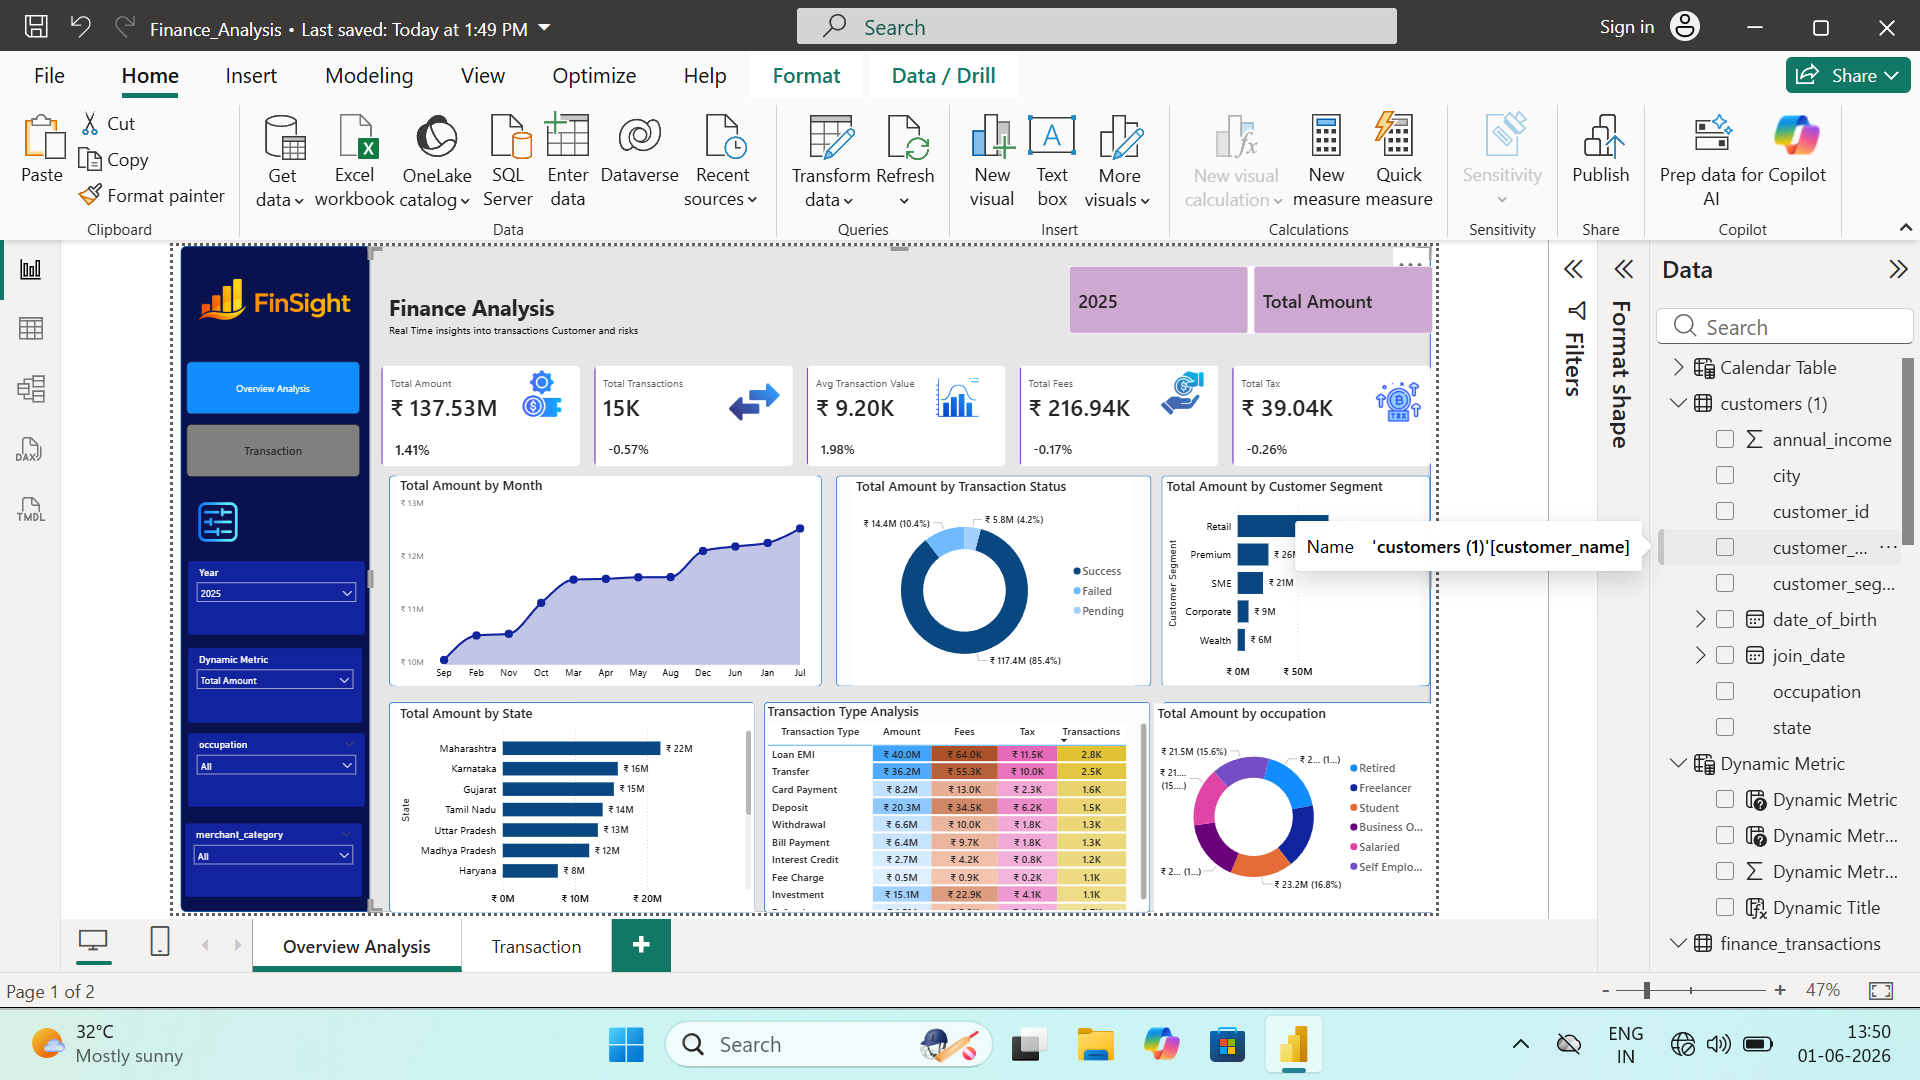

What the dashboard file says about the page in this screenshot:
{"tool":"powerbi","page":{"name":"Overview Analysis","canvas":[1800,950],"ordinal":0},"visuals":[{"type":"shape","box":[10.7,0,279.9,948.6],"z":0},{"type":"shape","box":[279,0,1512,948.7],"z":1000},{"type":"cardVisual","fields":{"Data":["finance_transactions.Dashboard Title"]},"box":[289.7,0,653.7,196.7],"z":2000},{"type":"cardVisual","fields":{"Data":["finance_transactions.Total Amount","finance_transactions.Total Transactions","finance_transactions.Avg Transaction Value","finance_transactions.Total Fees","finance_transactions.Total Tax"]},"box":[290.6,164.5,1508.4,156],"z":3000},{"type":"slicer","fields":{"Values":["Calendar Table.Year"]},"box":[21.4,448.7,252.1,104.7],"z":4000},{"type":"slicer","fields":{"Values":["Dynamic Metric.Dynamic Metric"]},"box":[21.4,572.6,247.8,106.8],"z":5000},{"type":"shape","box":[308.3,326.9,616.5,300.3],"z":6000},{"type":"areaChart","fields":{"Y":["finance_transactions.Total Amount"],"Category":["Calendar Table.Month"]},"box":[318.9,326.9,597.9,300.3],"z":7000},{"type":"cardVisual","fields":{"Data":["finance_transactions.Selected Year","Calendar Table.Selected Dynamic Measure"]},"box":[1270.3,23.9,528.8,106.3],"z":8000},{"type":"shape","box":[943.4,326.9,449.1,300.3],"z":9000},{"type":"donutChart","fields":{"Y":["finance_transactions.Total Amount"],"Category":["finance_transactions.transaction_status"]},"box":[967.3,329.5,401.3,297.6],"z":10000},{"type":"shape","box":[1408.5,326.9,382.7,300.3],"z":11000},{"type":"barChart","fields":{"Y":["finance_transactions.Total Amount"],"Category":["customers (1).customer_segment"]},"box":[1411.1,329.5,366.7,297.6],"z":12000},{"type":"shape","box":[308.3,648.4,521,300.3],"z":13000},{"type":"barChart","fields":{"Y":["finance_transactions.Total Amount"],"Category":["customers (1).state"]},"box":[318.9,651.1,510.2,297.6],"z":14000},{"type":"shape","box":[842.4,648.4,550.1,300.3],"z":15000},{"type":"tableEx","title":"Transaction Type Analysis","fields":{"Values":["finance_transactions.transaction_type","finance_transactions.Total Amount","finance_transactions.Total Fees","finance_transactions.Total Tax","finance_transactions.Total Transactions"]},"box":[842.4,648.4,550.1,300.3],"z":16000},{"type":"shape","box":[1411.1,648.4,382.7,300.3],"z":17000},{"type":"donutChart","fields":{"Y":["finance_transactions.Total Amount"],"Category":["customers (1).occupation"]},"box":[1397.8,651.1,401.3,297.6],"z":18000},{"type":"slicer","fields":{"Values":["customers (1).occupation"]},"box":[21.4,694.4,252.1,104.7],"z":18001},{"type":"slicer","fields":{"Values":["finance_transactions.merchant_category"]},"box":[17.1,822.5,252.1,104.7],"z":18002},{"type":"pageNavigator","box":[19.2,164.5,247.8,164.5],"z":18003},{"type":"image","box":[27.8,23.5,239.3,106.8],"z":18004},{"type":"image","box":[1698.5,183.7,94,76.9],"z":18005},{"type":"image","box":[777.7,183.7,100.4,76.9],"z":18006},{"type":"image","box":[476.4,177.3,98.3,66.2],"z":18007},{"type":"image","box":[1064,183.7,106.8,64.1],"z":18008},{"type":"image","box":[1393,177.3,89.7,64.1],"z":18009},{"type":"image","box":[10.7,361.1,106.8,64.1],"z":18010}]}

Visuals, with their boxes on the page's 1800x950 design canvas (x1, y1, x2, y2). These are canvas units, not pixel positions in the 1920x1080 screenshot, which may show the page scaled, cropped or inside an application window:
shape: x1=11 y1=0 x2=291 y2=949
shape: x1=279 y1=0 x2=1791 y2=949
cardVisual - finance_transactions.Dashboard Title: x1=290 y1=0 x2=943 y2=197
cardVisual - finance_transactions.Total Amount x finance_transactions.Total Transactions: x1=291 y1=164 x2=1799 y2=320
slicer - Calendar Table.Year: x1=21 y1=449 x2=274 y2=553
slicer - Dynamic Metric.Dynamic Metric: x1=21 y1=573 x2=269 y2=679
shape: x1=308 y1=327 x2=925 y2=627
areaChart - finance_transactions.Total Amount x Calendar Table.Month: x1=319 y1=327 x2=917 y2=627
cardVisual - finance_transactions.Selected Year x Calendar Table.Selected Dynamic Measure: x1=1270 y1=24 x2=1799 y2=130
shape: x1=943 y1=327 x2=1392 y2=627
donutChart - finance_transactions.Total Amount x finance_transactions.transaction_status: x1=967 y1=330 x2=1369 y2=627
shape: x1=1408 y1=327 x2=1791 y2=627
barChart - finance_transactions.Total Amount x customers (1).customer_segment: x1=1411 y1=330 x2=1778 y2=627
shape: x1=308 y1=648 x2=829 y2=949
barChart - finance_transactions.Total Amount x customers (1).state: x1=319 y1=651 x2=829 y2=949
shape: x1=842 y1=648 x2=1392 y2=949
"Transaction Type Analysis" tableEx: x1=842 y1=648 x2=1392 y2=949
shape: x1=1411 y1=648 x2=1794 y2=949
donutChart - finance_transactions.Total Amount x customers (1).occupation: x1=1398 y1=651 x2=1799 y2=949
slicer - customers (1).occupation: x1=21 y1=694 x2=274 y2=799
slicer - finance_transactions.merchant_category: x1=17 y1=822 x2=269 y2=927
pageNavigator: x1=19 y1=164 x2=267 y2=329
image: x1=28 y1=24 x2=267 y2=130
image: x1=1698 y1=184 x2=1792 y2=261
image: x1=778 y1=184 x2=878 y2=261
image: x1=476 y1=177 x2=575 y2=244
image: x1=1064 y1=184 x2=1171 y2=248
image: x1=1393 y1=177 x2=1483 y2=241
image: x1=11 y1=361 x2=118 y2=425
